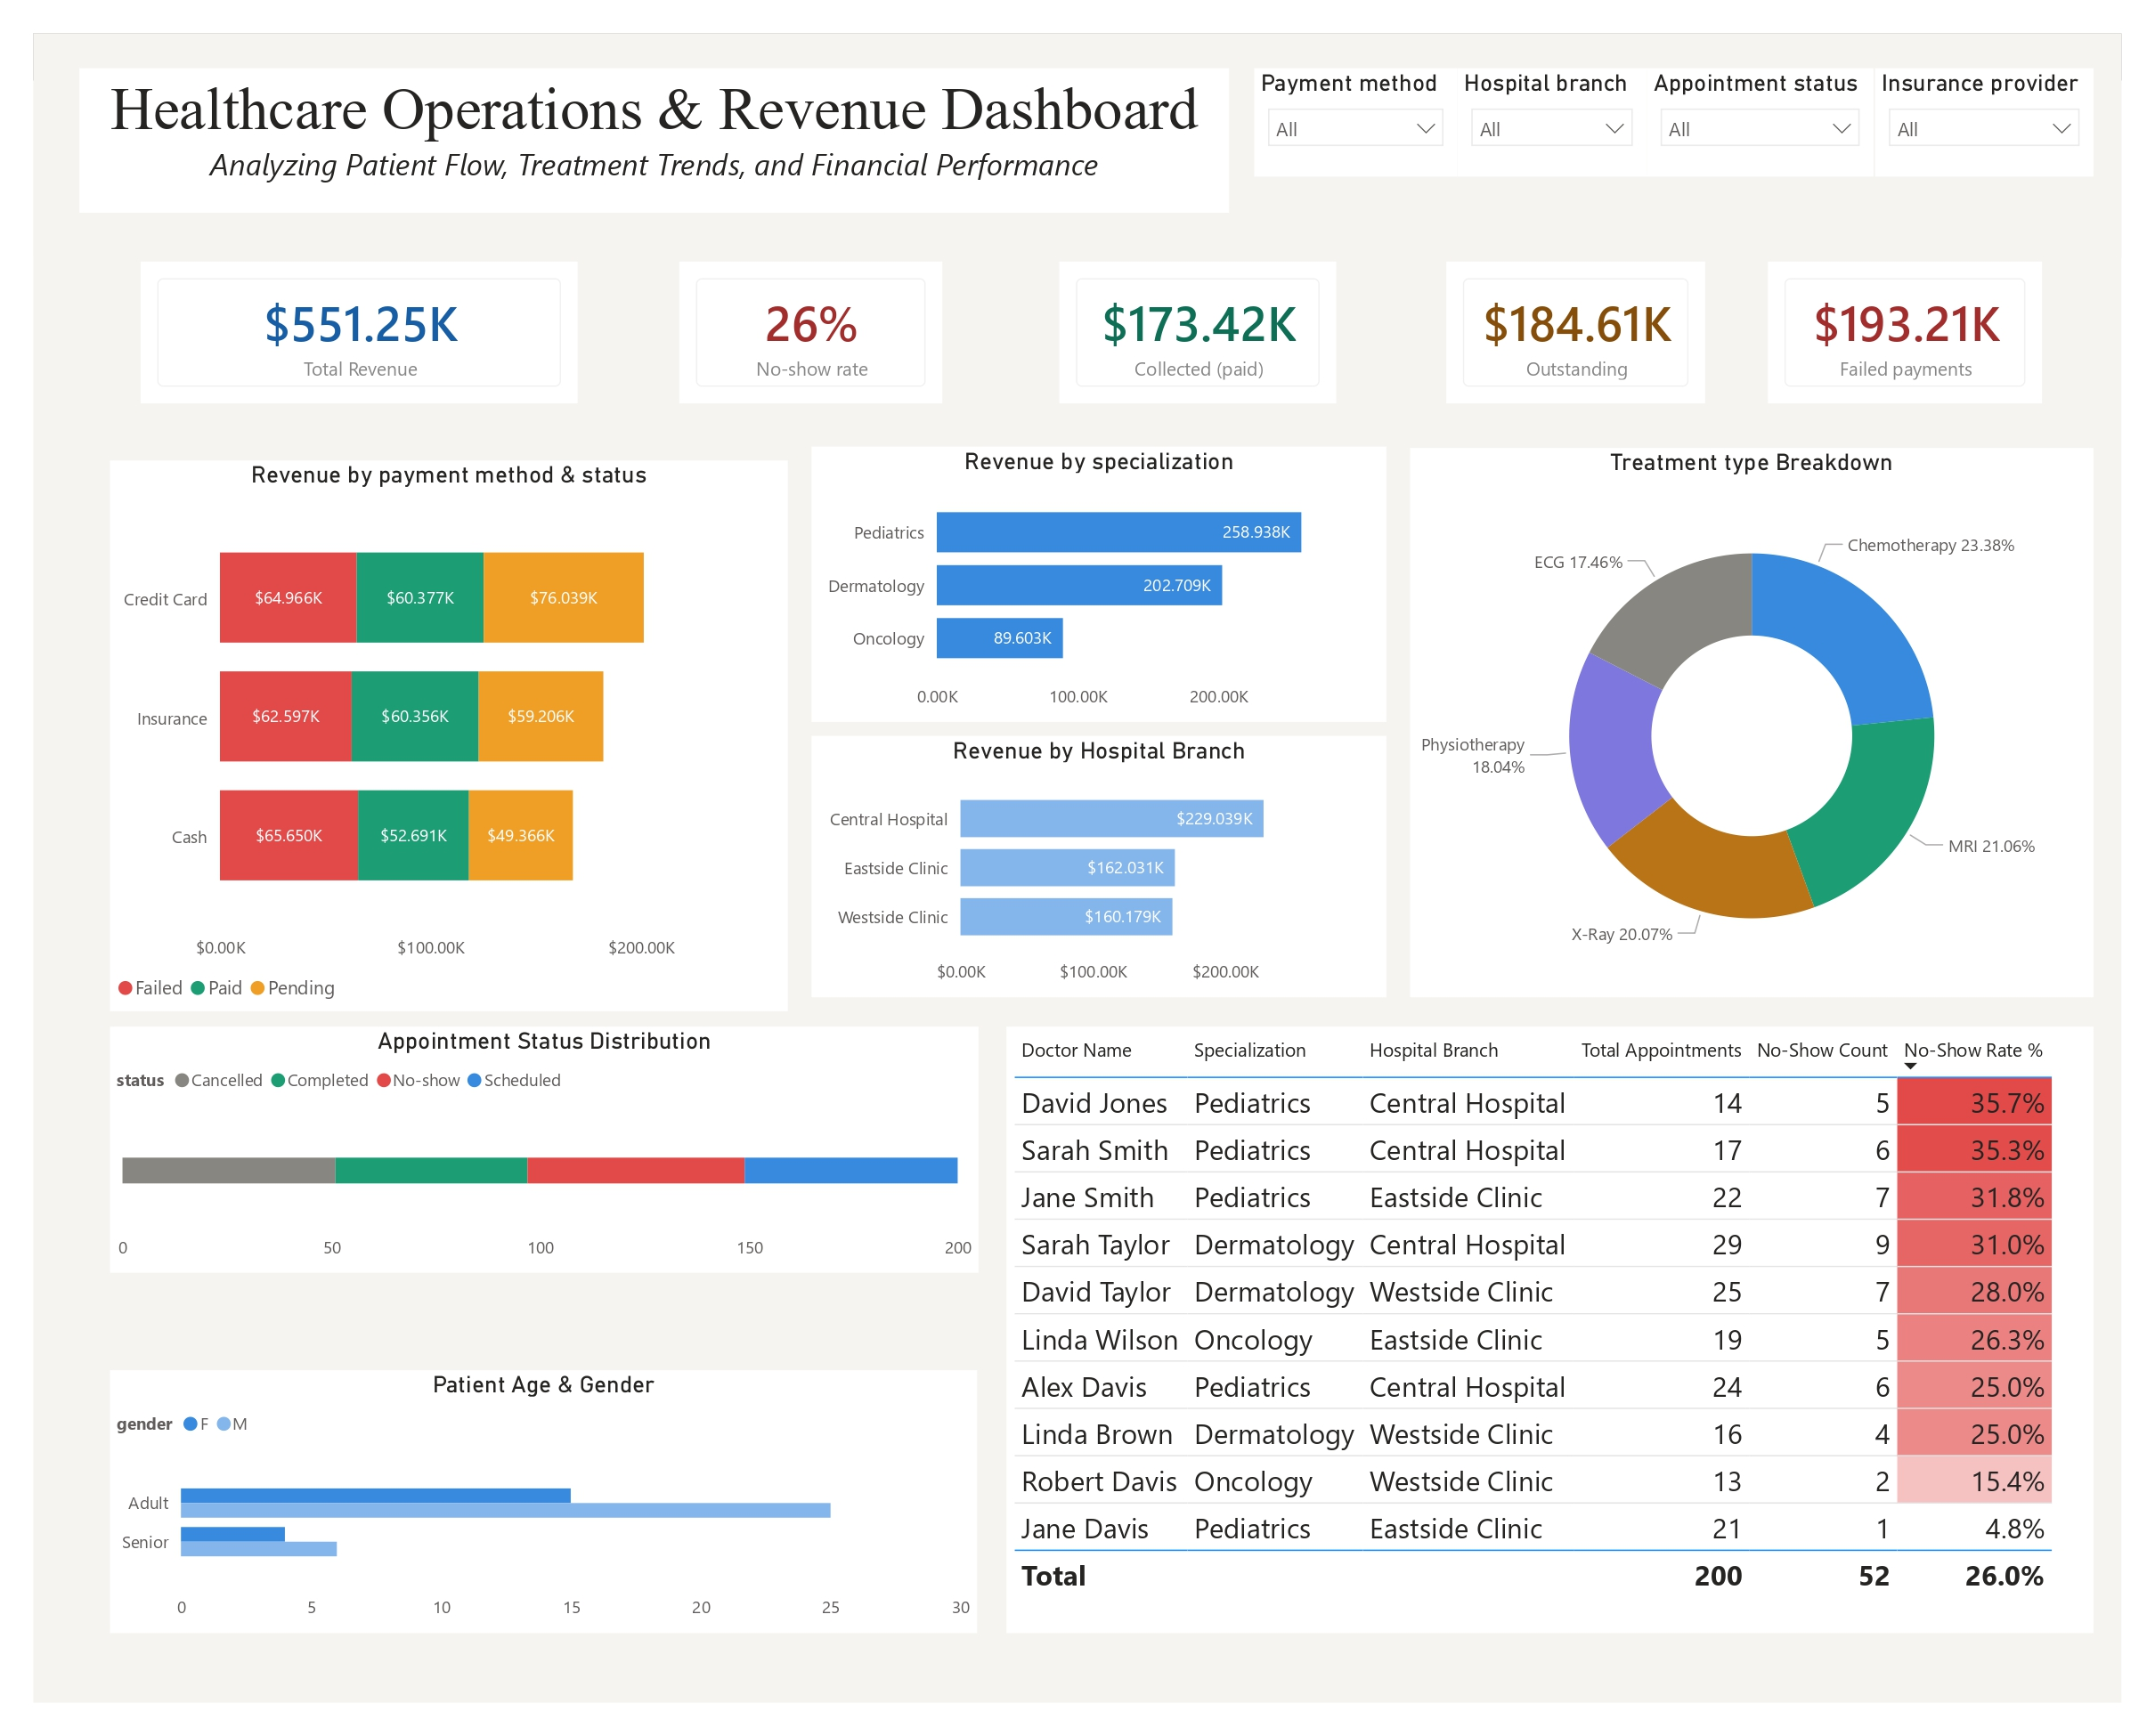

This screenshot's page, from the dashboard's own definition file:
{"tool":"powerbi","page":{"name":"dash","canvas":[1500,1200],"ordinal":0},"visuals":[{"type":"cardVisual","title":"Total Revenue","fields":{"Data":["billing.Total Revenue"]},"box":[72.5,159.4,323.2,111.6],"z":0},{"type":"cardVisual","fields":{"Data":["billing.Revenue Collected"]},"box":[731.9,159.4,208.7,111.6],"z":1000},{"type":"cardVisual","fields":{"Data":["billing.Revenue Outstanding"]},"box":[1010.1,159.4,195.7,111.6],"z":2000},{"type":"cardVisual","fields":{"Data":["billing.Revenue Failed"]},"box":[1240.6,159.4,207.2,111.6],"z":3000},{"type":"cardVisual","fields":{"Data":["billing.No-Show Rate %"]},"box":[459.4,159.4,198.6,111.6],"z":4000},{"type":"textbox","box":[33.3,24.6,826.1,104.3],"z":5000},{"type":"barChart","title":"Revenue by payment method & status","fields":{"Category":["billing.payment_method"],"Series":["billing.payment_status"],"Y":["billing.Total Revenue"]},"box":[55.1,307.2,487,395.7],"z":6000},{"type":"clusteredBarChart","title":" Revenue by specialization","fields":{"Y":["billing.Total Revenue"],"Category":["vw_clinic_master.specialization"]},"box":[559.2,297.4,413.2,197.4],"z":7000},{"type":"clusteredBarChart","title":"Revenue by Hospital Branch","fields":{"Y":["billing.Total Revenue"],"Category":["vw_clinic_master.hospital_branch"]},"box":[559.2,505.3,413.2,188.2],"z":8000},{"type":"donutChart","title":"Treatment type Breakdown","fields":{"Category":["treatments.treatment_type"],"Y":["billing.Total Revenue"]},"box":[988.9,297.8,491.1,395.6],"z":9000},{"type":"barChart","title":"Appointment Status Distribution","fields":{"Y":["CountNonNull(appointments.appointment_id)"],"Series":["appointments.status"]},"box":[55.3,714.5,623.7,176.3],"z":10000},{"type":"clusteredBarChart","title":"Patient Age & Gender","fields":{"Category":["patients_clean.age_group"],"Y":["CountNonNull(patients_clean.patient_id)"],"Series":["patients_clean.gender"]},"box":[55.3,960.5,622.4,189.5],"z":11000},{"type":"tableEx","fields":{"Values":["doctors.Doctor Name","doctors.specialization","doctors.hospital_branch","billing.Total Appointments","billing.No-Show Count","billing.No-Show Rate %"]},"box":[698.7,714.5,781.6,435.5],"z":12000},{"type":"slicer","title":"Payment method","fields":{"Values":["billing.payment_method"]},"box":[876.8,24.6,146.4,78.3],"z":13000},{"type":"slicer","title":"Hospital branch","fields":{"Values":["doctors.hospital_branch"]},"box":[1023.2,24.6,136.2,78.3],"z":14000},{"type":"slicer","title":"Appointment status\t","fields":{"Values":["appointments.status"]},"box":[1159.4,24.6,162.3,78.3],"z":15000},{"type":"slicer","title":"Insurance provider","fields":{"Values":["patients_clean.insurance_provider"]},"box":[1323.2,24.6,156.5,78.3],"z":16000}]}

Visuals, with their boxes on the page's 1500x1200 design canvas (x1, y1, x2, y2). These are canvas units, not pixel positions in the 2155x1736 screenshot, which may show the page scaled, cropped or inside an application window:
"Total Revenue" cardVisual: detection(72, 159, 396, 271)
cardVisual - billing.Revenue Collected: detection(732, 159, 941, 271)
cardVisual - billing.Revenue Outstanding: detection(1010, 159, 1206, 271)
cardVisual - billing.Revenue Failed: detection(1241, 159, 1448, 271)
cardVisual - billing.No-Show Rate %: detection(459, 159, 658, 271)
textbox: detection(33, 25, 859, 129)
"Revenue by payment method & status" barChart: detection(55, 307, 542, 703)
" Revenue by specialization" clusteredBarChart: detection(559, 297, 972, 495)
"Revenue by Hospital Branch" clusteredBarChart: detection(559, 505, 972, 694)
"Treatment type Breakdown" donutChart: detection(989, 298, 1480, 693)
"Appointment Status Distribution" barChart: detection(55, 714, 679, 891)
"Patient Age & Gender" clusteredBarChart: detection(55, 960, 678, 1150)
tableEx - doctors.Doctor Name x doctors.specialization: detection(699, 714, 1480, 1150)
"Payment method" slicer: detection(877, 25, 1023, 103)
"Hospital branch" slicer: detection(1023, 25, 1159, 103)
"Appointment status	" slicer: detection(1159, 25, 1322, 103)
"Insurance provider" slicer: detection(1323, 25, 1480, 103)
